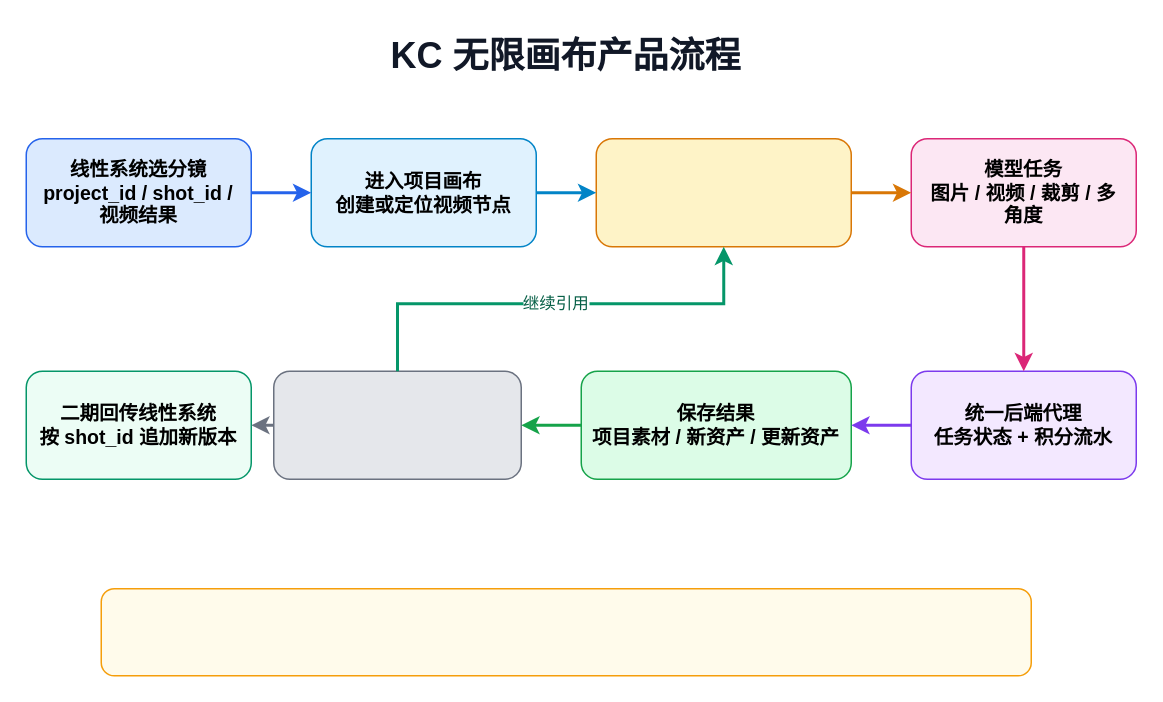
This 1163x702 diagram has some shape labels left out. Here are the shapes that lost their labels. From the top down, the centre of each, then its label:
the point at 723,192: 画布自由迭代 拖拽 / 连线 / 上传 / 小地图
the point at 396,424: 共享库沉淀 资产库 / 素材库 / 版本历史
the point at 565,631: 当前线上原型已支持：项目入口、上传转节点、资产筛选、保存弹窗、积分看板、小地图、触控板手势。
